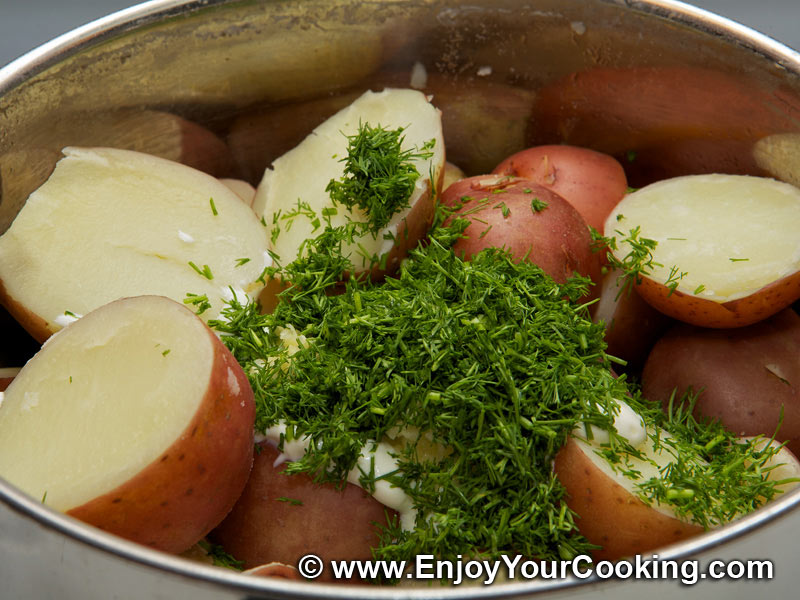boiled potatoes: (17, 140, 259, 328), (17, 316, 248, 511), (260, 80, 447, 259), (553, 373, 738, 541), (600, 174, 800, 307), (443, 168, 564, 284)
